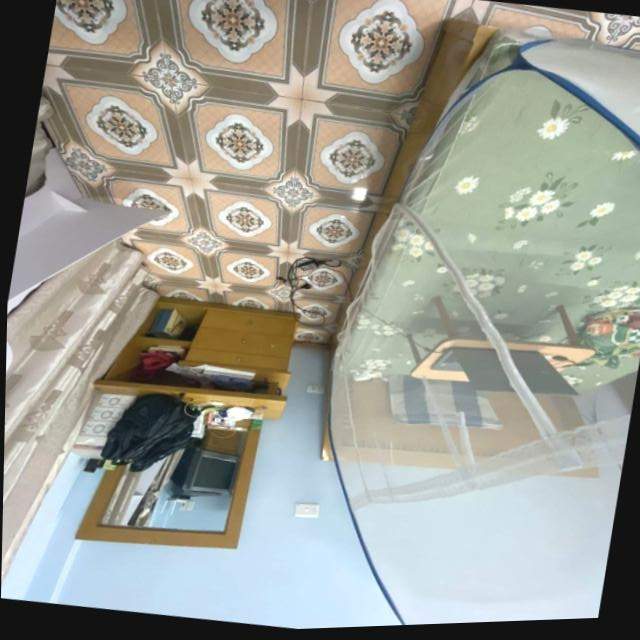outlet: (305, 383, 324, 395)
